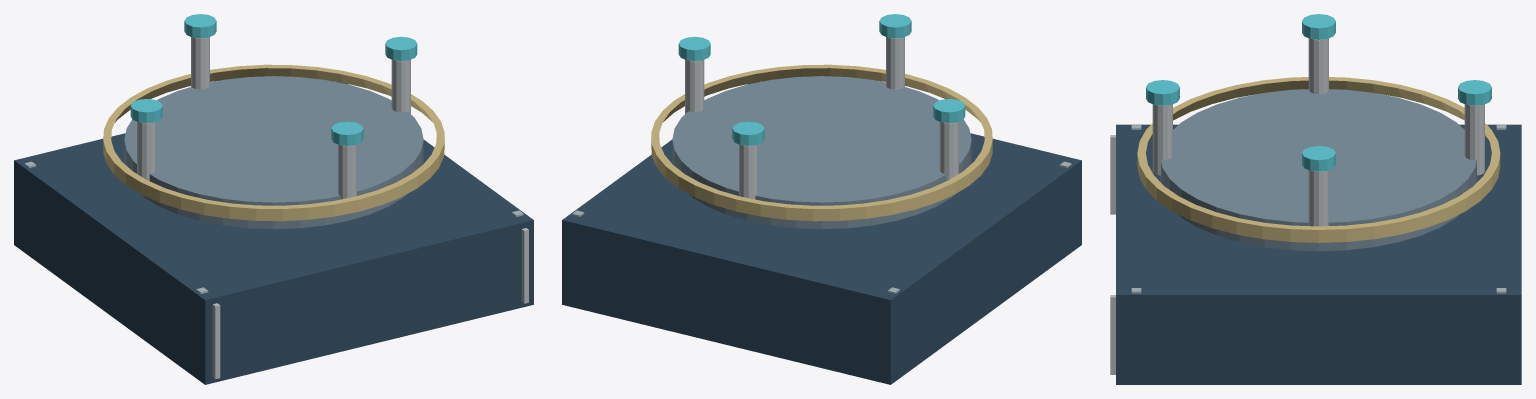
File: 14_L73_WaferLiftAndAlignmentAssembly.glb
3 renders of one model, left to right at view 1: azimuth 30°, elevation 25°; view 2: azimuth 150°, elevation 25°; view 3: azimuth 270°, elevation 25°, orthographic. The views are drawn at different scales.
Parts seen in each view (by area): view 1: WaferLiftAndAlignmentAssembly_Node_0000, WaferLiftAndAlignmentAssembly_Node_0007, WaferLiftAndAlignmentAssembly_Node_0016, WaferLiftAndAlignmentAssembly_Node_0012, WaferLiftAndAlignmentAssembly_Node_0008, WaferLiftAndAlignmentAssembly_Node_0010, WaferLiftAndAlignmentAssembly_Node_0014, WaferLiftAndAlignmentAssembly_Node_0011, WaferLiftAndAlignmentAssembly_Node_0015, WaferLiftAndAlignmentAssembly_Node_0009, WaferLiftAndAlignmentAssembly_Node_0013, WaferLiftAndAlignmentAssembly_Node_0005 (+1 smaller); view 2: WaferLiftAndAlignmentAssembly_Node_0000, WaferLiftAndAlignmentAssembly_Node_0007, WaferLiftAndAlignmentAssembly_Node_0016, WaferLiftAndAlignmentAssembly_Node_0012, WaferLiftAndAlignmentAssembly_Node_0008, WaferLiftAndAlignmentAssembly_Node_0014, WaferLiftAndAlignmentAssembly_Node_0010, WaferLiftAndAlignmentAssembly_Node_0011, WaferLiftAndAlignmentAssembly_Node_0015, WaferLiftAndAlignmentAssembly_Node_0009, WaferLiftAndAlignmentAssembly_Node_0013; view 3: WaferLiftAndAlignmentAssembly_Node_0000, WaferLiftAndAlignmentAssembly_Node_0007, WaferLiftAndAlignmentAssembly_Node_0016, WaferLiftAndAlignmentAssembly_Node_0010, WaferLiftAndAlignmentAssembly_Node_0014, WaferLiftAndAlignmentAssembly_Node_0008, WaferLiftAndAlignmentAssembly_Node_0012, WaferLiftAndAlignmentAssembly_Node_0011, WaferLiftAndAlignmentAssembly_Node_0013, WaferLiftAndAlignmentAssembly_Node_0015, WaferLiftAndAlignmentAssembly_Node_0009, WaferLiftAndAlignmentAssembly_Node_0005 (+1 smaller).
Part boxes in pixels (<box>): WaferLiftAndAlignmentAssembly_Node_0000: <box>14,82,533,384</box>; WaferLiftAndAlignmentAssembly_Node_0007: <box>124,76,423,229</box>; WaferLiftAndAlignmentAssembly_Node_0016: <box>103,64,444,221</box>; WaferLiftAndAlignmentAssembly_Node_0012: <box>137,122,156,180</box>; WaferLiftAndAlignmentAssembly_Node_0008: <box>391,59,410,113</box>; WaferLiftAndAlignmentAssembly_Node_0010: <box>338,144,356,199</box>; WaferLiftAndAlignmentAssembly_Node_0014: <box>191,37,209,89</box>; WaferLiftAndAlignmentAssembly_Node_0011: <box>331,121,363,145</box>; WaferLiftAndAlignmentAssembly_Node_0015: <box>184,14,216,38</box>; WaferLiftAndAlignmentAssembly_Node_0009: <box>385,36,417,60</box>; WaferLiftAndAlignmentAssembly_Node_0013: <box>130,99,162,123</box>; WaferLiftAndAlignmentAssembly_Node_0005: <box>212,303,220,378</box>; WaferLiftAndAlignmentAssembly_Node_0000: <box>562,82,1081,384</box>; WaferLiftAndAlignmentAssembly_Node_0007: <box>672,76,971,229</box>; WaferLiftAndAlignmentAssembly_Node_0016: <box>651,64,992,221</box>; WaferLiftAndAlignmentAssembly_Node_0012: <box>939,122,958,180</box>; WaferLiftAndAlignmentAssembly_Node_0008: <box>685,59,704,113</box>; WaferLiftAndAlignmentAssembly_Node_0014: <box>739,144,757,199</box>; WaferLiftAndAlignmentAssembly_Node_0010: <box>886,37,904,89</box>; WaferLiftAndAlignmentAssembly_Node_0011: <box>879,14,911,38</box>; WaferLiftAndAlignmentAssembly_Node_0015: <box>732,121,764,145</box>; WaferLiftAndAlignmentAssembly_Node_0009: <box>678,36,710,60</box>; WaferLiftAndAlignmentAssembly_Node_0013: <box>933,99,965,123</box>; WaferLiftAndAlignmentAssembly_Node_0000: <box>1116,124,1521,384</box>; WaferLiftAndAlignmentAssembly_Node_0007: <box>1160,89,1477,251</box>; WaferLiftAndAlignmentAssembly_Node_0016: <box>1137,77,1500,242</box>; WaferLiftAndAlignmentAssembly_Node_0010: <box>1152,104,1172,175</box>; WaferLiftAndAlignmentAssembly_Node_0014: <box>1464,104,1484,175</box>; WaferLiftAndAlignmentAssembly_Node_0008: <box>1308,170,1328,226</box>; WaferLiftAndAlignmentAssembly_Node_0012: <box>1308,38,1328,94</box>; WaferLiftAndAlignmentAssembly_Node_0011: <box>1146,80,1179,105</box>; WaferLiftAndAlignmentAssembly_Node_0013: <box>1302,14,1335,39</box>; WaferLiftAndAlignmentAssembly_Node_0015: <box>1458,80,1491,105</box>; WaferLiftAndAlignmentAssembly_Node_0009: <box>1302,146,1335,171</box>; WaferLiftAndAlignmentAssembly_Node_0005: <box>1110,135,1115,214</box>.
Bounding box in the file's own units: 1.42 × 0.8275 × 1.45.
